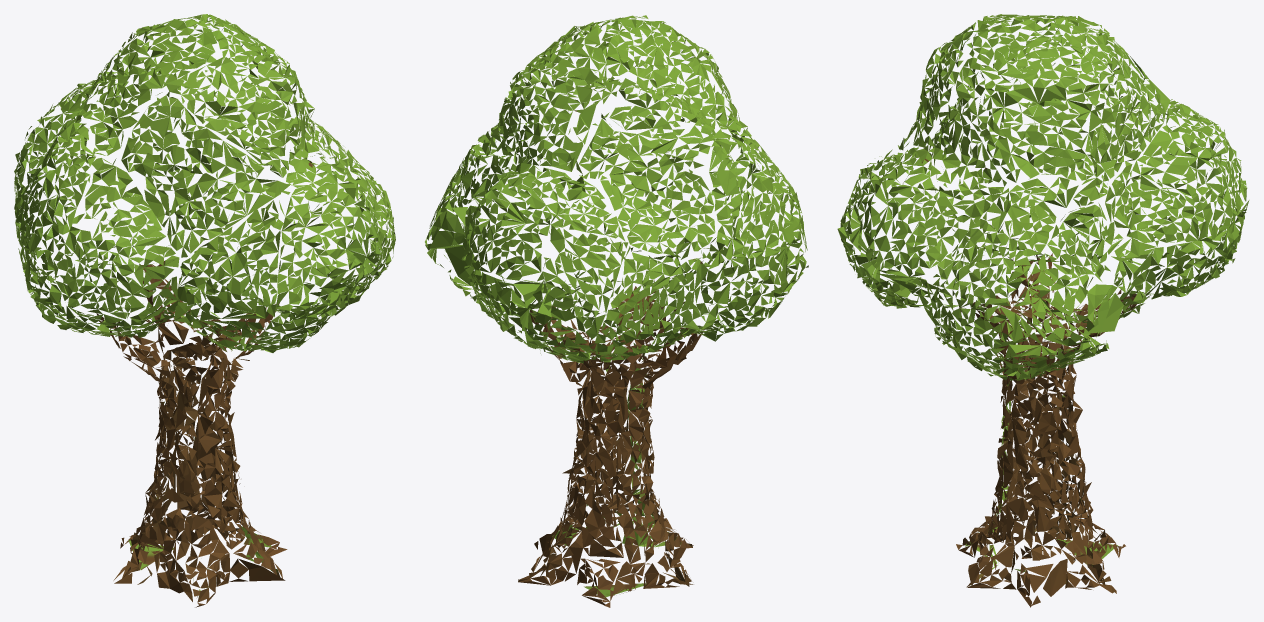
Rendered from tree_lowpoly_tex.glb.
3 renders of one model, left to right at view 1: azimuth 30°, elevation 25°; view 2: azimuth 150°, elevation 25°; view 3: azimuth 270°, elevation 25°, orthographic.
Parts seen in each view (by area): view 1: LowPolyTree; view 2: LowPolyTree; view 3: LowPolyTree.
Part boxes in pixels (left/top/right/bottom): LowPolyTree: left=14, top=14, right=395, bottom=607; LowPolyTree: left=425, top=15, right=808, bottom=607; LowPolyTree: left=837, top=14, right=1249, bottom=607.
Bounding box in the file's own units: 2.37 × 3.5 × 2.37.
1 material, 1 textured.
